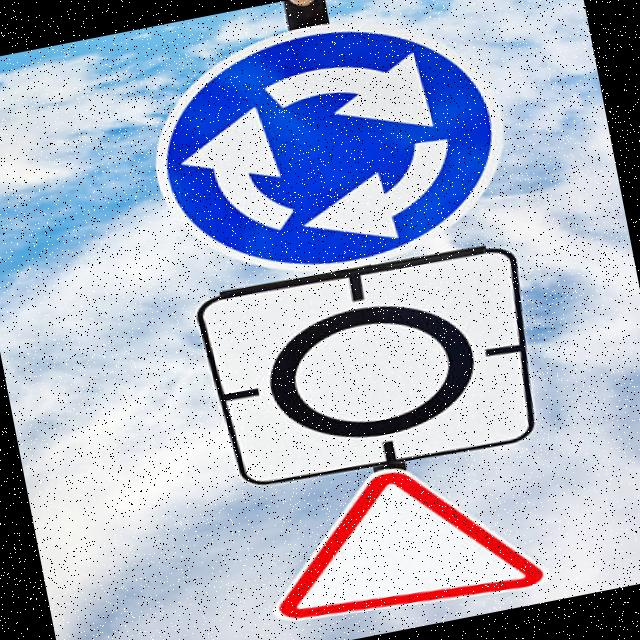round_about: (121, 0, 528, 303)
